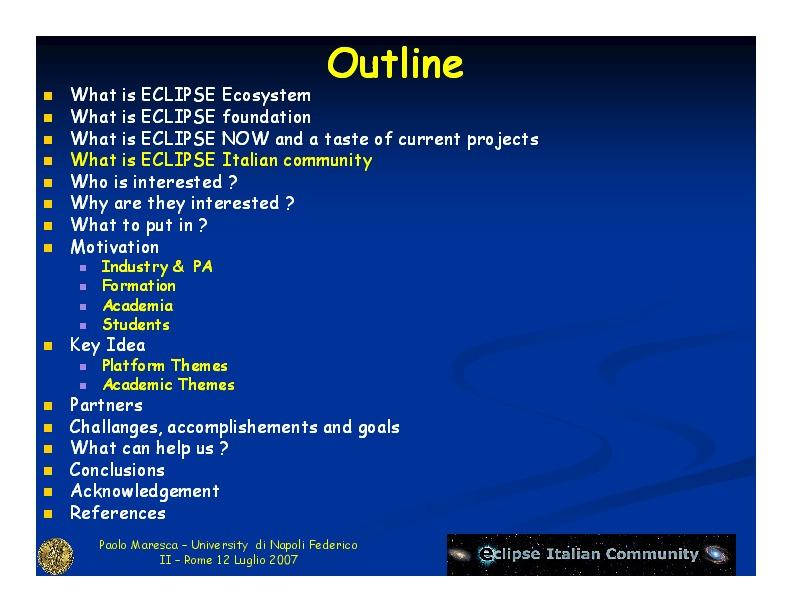paragraph: (44, 83, 581, 525)
title: (324, 44, 474, 86)
